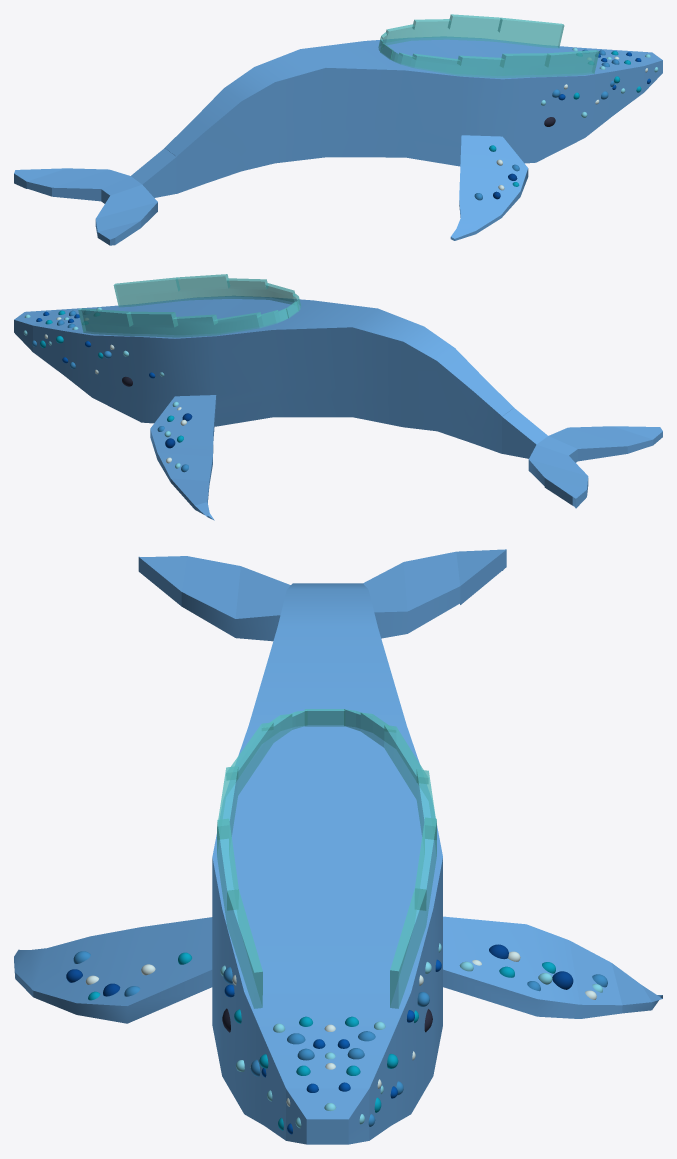
Rendered from whale.fbx.
The picture shows the model from 3 angles, top to bottom: view 1: azimuth 30°, elevation 25°; view 2: azimuth 150°, elevation 25°; view 3: azimuth 270°, elevation 25°; orthographic projection. The views are drawn at different scales.
Visible parts, largest first — view 1: polySurface12; view 2: polySurface12; view 3: polySurface12.
Part boxes in pixels (<box>): polySurface12: <box>14,14,662,245</box>; polySurface12: <box>14,274,662,520</box>; polySurface12: <box>14,549,662,1144</box>.
Size of the model in its own units: 55.57 by 13.79 by 26.51.
